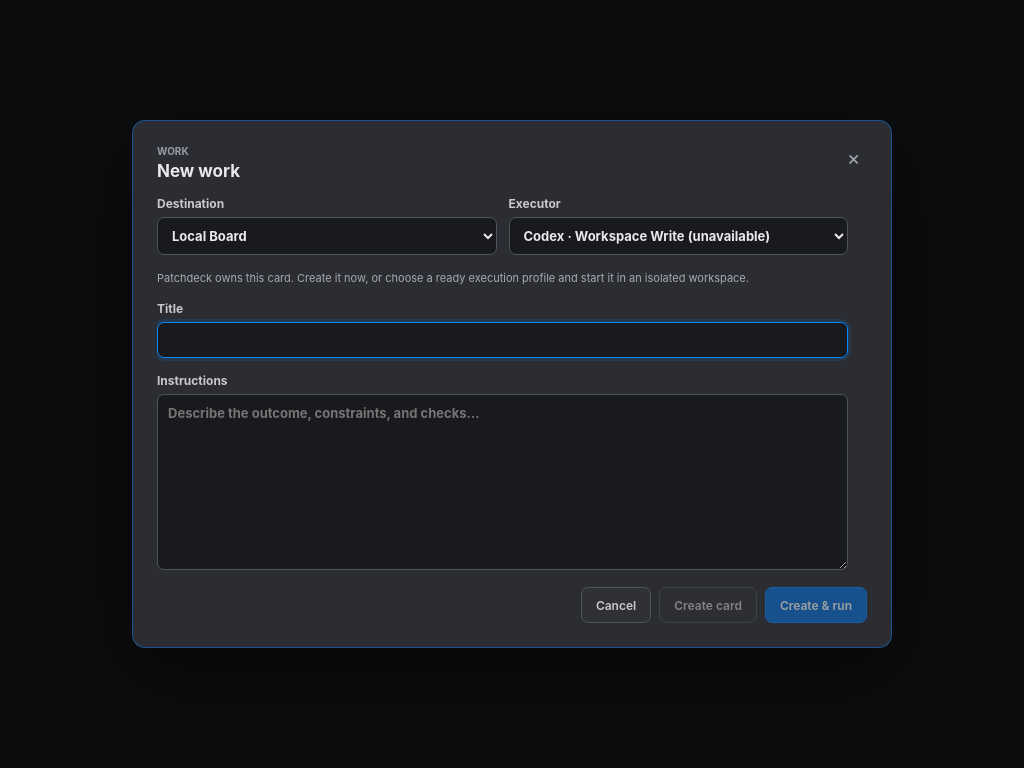
new work composer interaction contract › preserves the draft and prevents duplicate Create & run attempts when workspace preparation fails
This screenshot has width=1024, height=768.
Type "Retry this draft" into the field labelled "Title" at [502, 340], box [157,322,848,358]
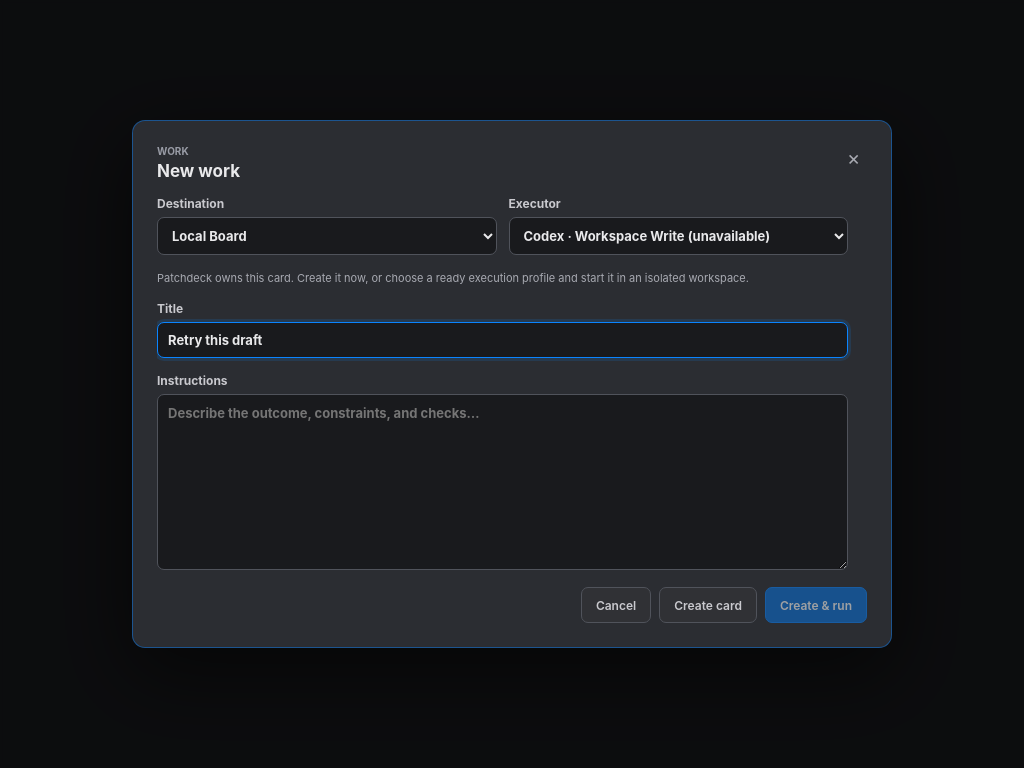
Type "Keep these details." into the text box labelled "Instructions" at [502, 482], box [157,394,848,570]
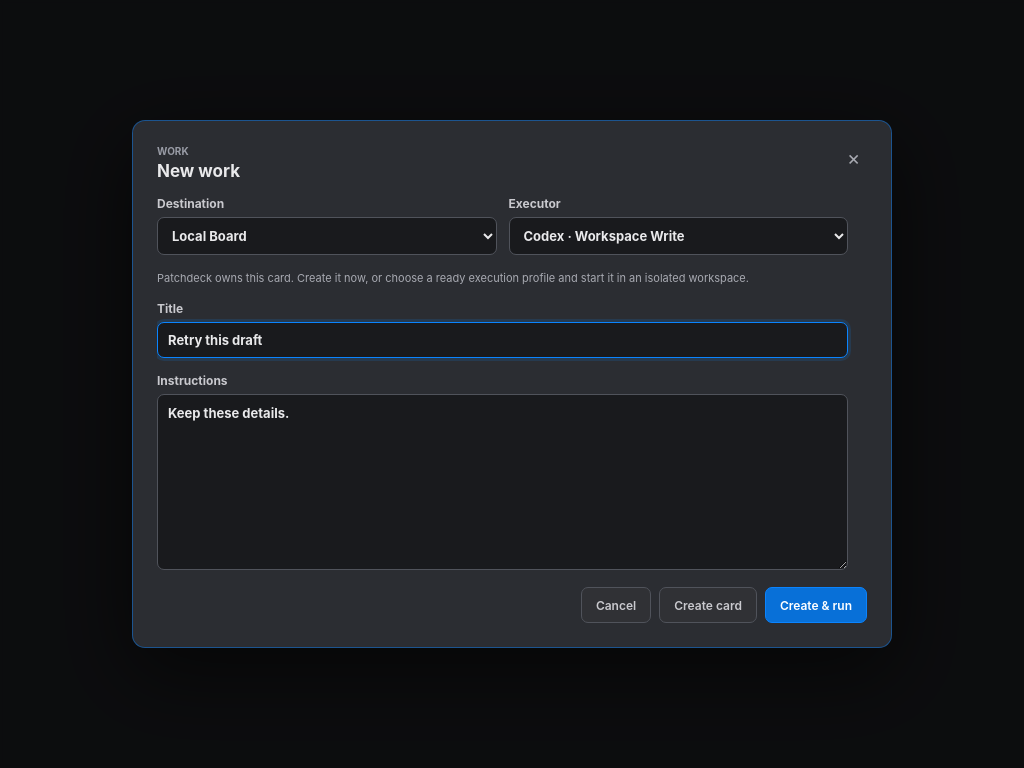
Result: the button "Create & run" is enabled
Click the button "Create & run" at [816, 605], box [765,587,867,623]
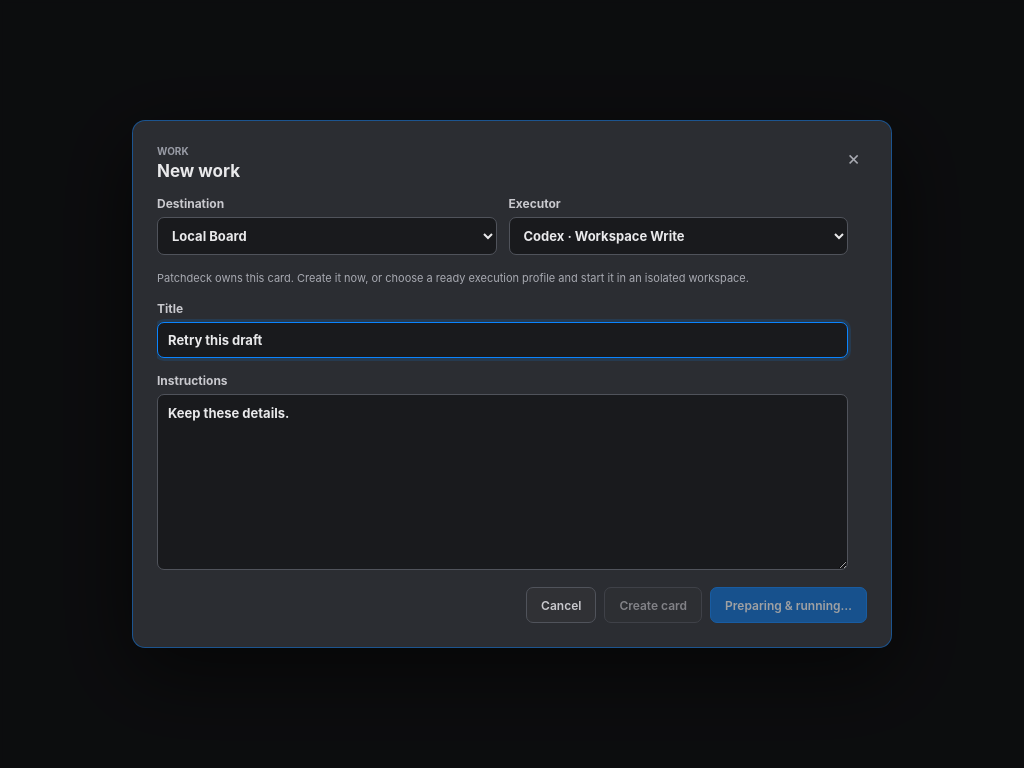
Click the button named "Create & run" at [789, 605], box [710,587,867,623]
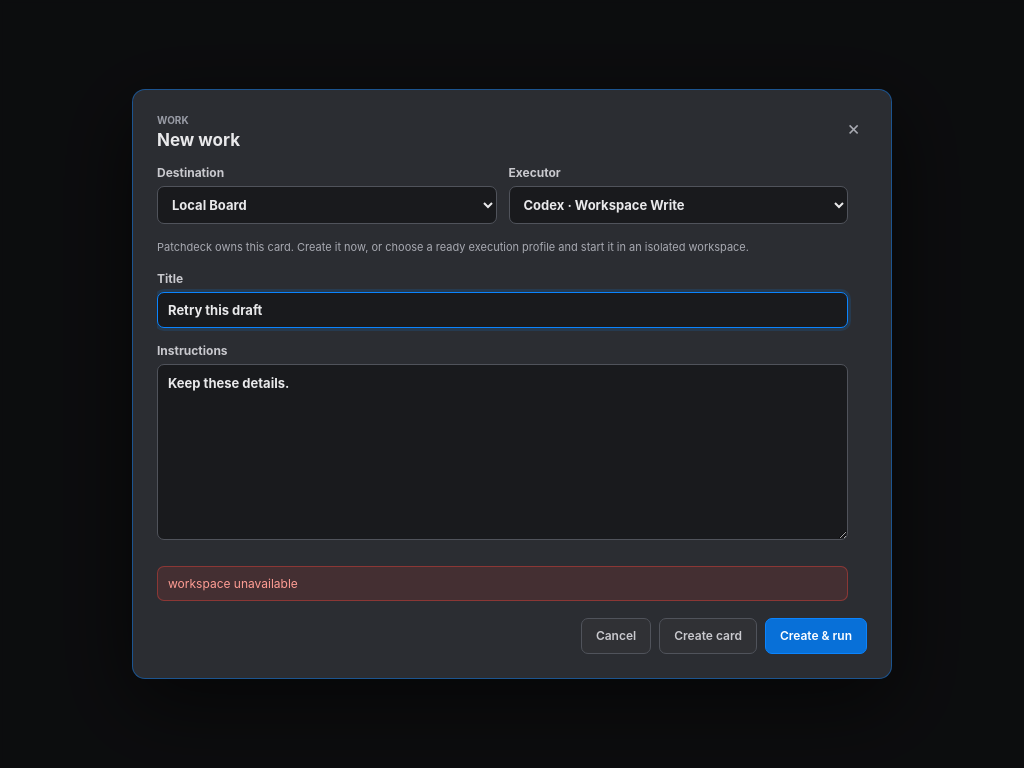
Result: the message reads "workspace unavailable" at [168,576,298,590]
Result: the button "Create & run" is enabled at [765,618,867,654]
